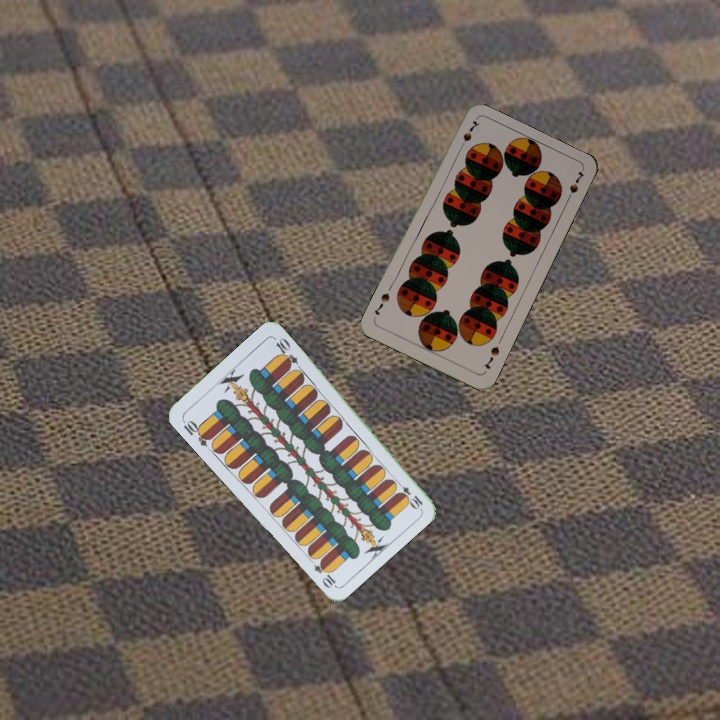E10: (178, 416, 214, 449), (391, 477, 425, 511)
S7: (479, 342, 502, 372), (455, 128, 474, 154)
